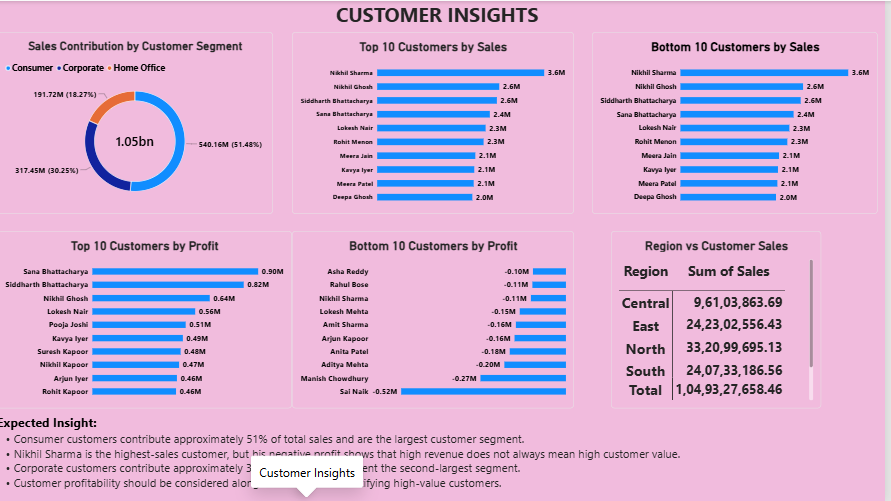

Layout of this report page (visuals, bound fields, positions):
{"tool":"powerbi","page":{"name":"Customer Insights","canvas":[1920,1080],"ordinal":1},"visuals":[{"type":"textbox","box":[10.9,0,1891.3,67.4],"z":0},{"type":"clusteredBarChart","title":"Top 10 Customers by Sales","fields":{"Category":["Orders.Customer Name"],"Y":["Sum(Orders.Sales)"]},"box":[637,67.4,608.7,393.5],"z":1000},{"type":"donutChart","title":"Sales Contribution by Customer Segment","fields":{"Category":["Orders.Segment"],"Y":["Orders.Total Sales"]},"box":[0,67.4,595.7,393.5],"z":2000},{"type":"clusteredBarChart","title":"Top 10 Customers by Profit","fields":{"Category":["Orders.Customer Name"],"Y":["Orders.Total Profit"]},"box":[0,497.8,637,382.6],"z":3000},{"type":"clusteredBarChart","title":"Bottom 10 Customers by Profit","fields":{"Category":["Orders.Customer Name"],"Y":["Sum(Orders.Profit)"]},"box":[637,497.8,608.7,382.6],"z":4000},{"type":"clusteredBarChart","title":"Bottom 10 Customers by Sales","fields":{"Category":["Orders.Customer Name"],"Y":["Sum(Orders.Sales)"]},"box":[1284.8,67.4,617.4,393.5],"z":5000},{"type":"pivotTable","title":"Region vs Customer Sales","fields":{"Rows":["Orders.Region","Orders.Customer Name"],"Values":["Sum(Orders.Sales)"]},"box":[1326.1,497.8,454.3,382.6],"z":6000},{"type":"textbox","box":[0,891.3,1823.9,189.1],"z":7000}]}

Visuals, with their boxes in screenshot pixels (x1, y1, x2, y2), scaled from the page's 1920x1080 canvas onto the 891x501 screenshot:
textbox: (5,0,883,31)
"Top 10 Customers by Sales" clusteredBarChart: (296,31,578,214)
"Sales Contribution by Customer Segment" donutChart: (0,31,276,214)
"Top 10 Customers by Profit" clusteredBarChart: (0,231,296,408)
"Bottom 10 Customers by Profit" clusteredBarChart: (296,231,578,408)
"Bottom 10 Customers by Sales" clusteredBarChart: (596,31,883,214)
"Region vs Customer Sales" pivotTable: (615,231,826,408)
textbox: (0,413,846,500)
